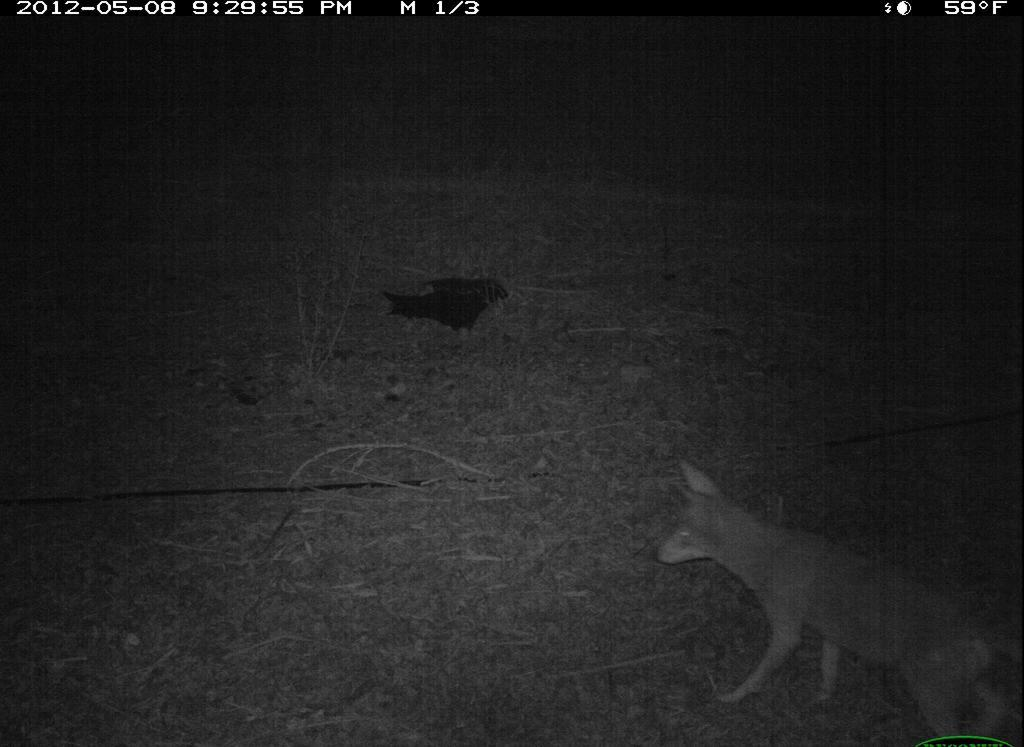coyote: (639, 445, 1007, 747)
